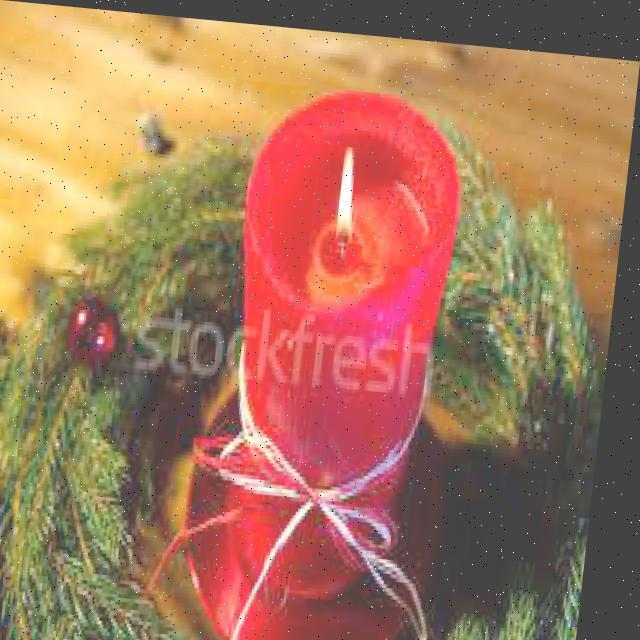Fire: (328, 136, 369, 240)
